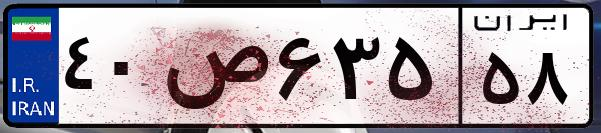0: (110, 28, 158, 98)
3: (330, 28, 385, 110)
4: (57, 26, 110, 100)
5: (385, 28, 445, 110), (475, 38, 525, 113)
6: (270, 28, 330, 110)
8: (525, 38, 570, 115)
ص: (158, 20, 270, 120)
